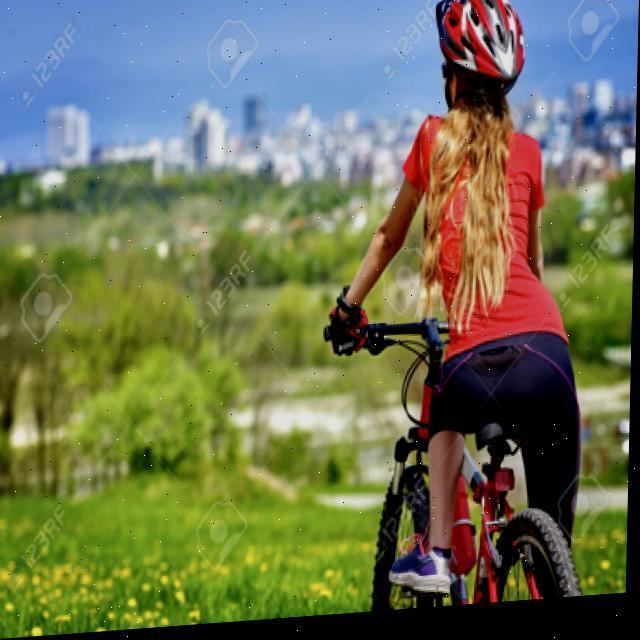Helmet: (428, 0, 536, 120)
